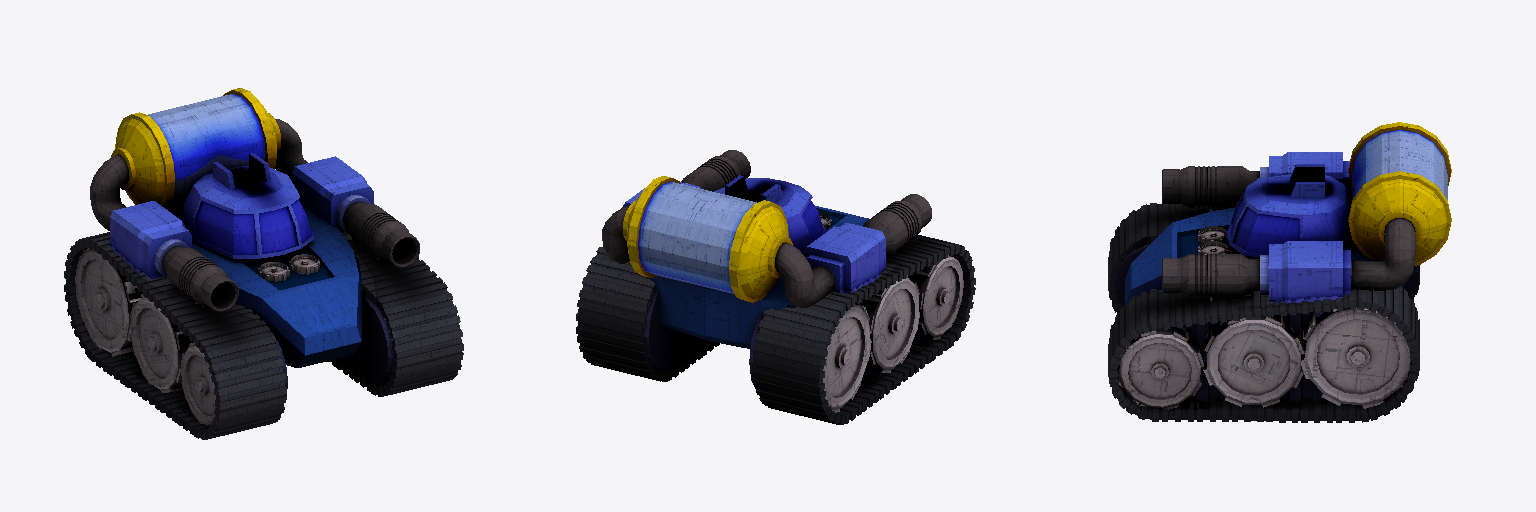
3 renders of one model, left to right at view 1: azimuth 30°, elevation 25°; view 2: azimuth 150°, elevation 25°; view 3: azimuth 270°, elevation 25°, orthographic.
Visible parts, largest first — view 1: Object001, Box042, Object004, Object003, Object002; view 2: Object001, Box042, Object003, Object004, Object002; view 3: Object001, Box042, Object004, Object003, Object002.
Part boxes in pixels (bbox=[...]): Object001: bbox=[90, 88, 419, 397]; Box042: bbox=[64, 232, 463, 439]; Object004: bbox=[75, 248, 142, 356]; Object003: bbox=[130, 294, 192, 392]; Object002: bbox=[180, 342, 216, 425]; Object001: bbox=[602, 150, 931, 388]; Box042: bbox=[576, 235, 975, 424]; Object003: bbox=[864, 275, 919, 372]; Object004: bbox=[823, 304, 871, 412]; Object002: bbox=[912, 255, 963, 339]; Object001: bbox=[1115, 122, 1451, 400]; Box042: bbox=[1108, 203, 1419, 422]; Object004: bbox=[1301, 308, 1411, 408]; Object003: bbox=[1203, 315, 1304, 407]; Object002: bbox=[1118, 327, 1204, 409].
Bounding box in the file's own units: 121 × 101 × 147.
Materials: 2 (2 with a texture image).